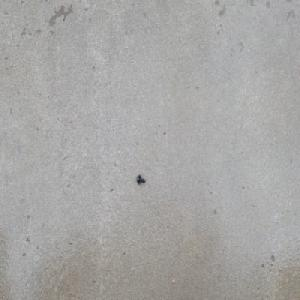BoltWasher: (136, 173, 145, 185)
